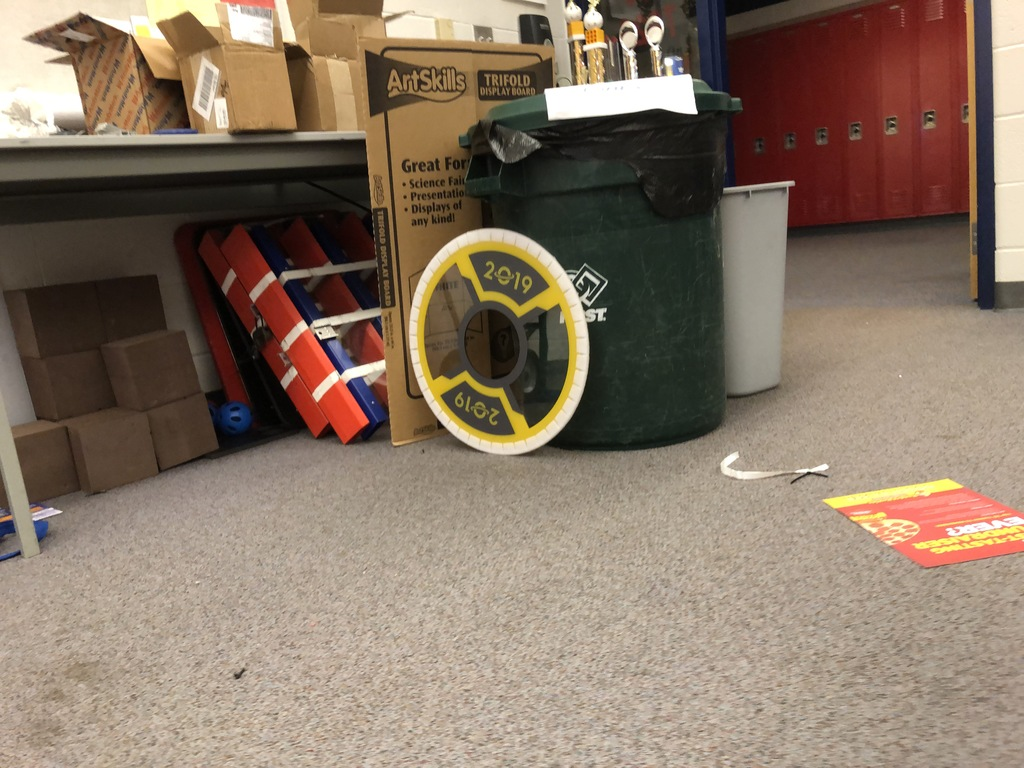hatch_panel: (379, 205, 607, 485)
